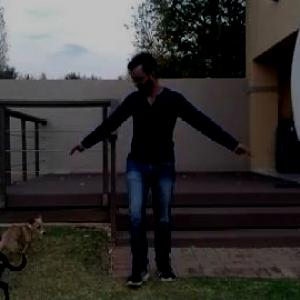land: (74, 55, 264, 284)
